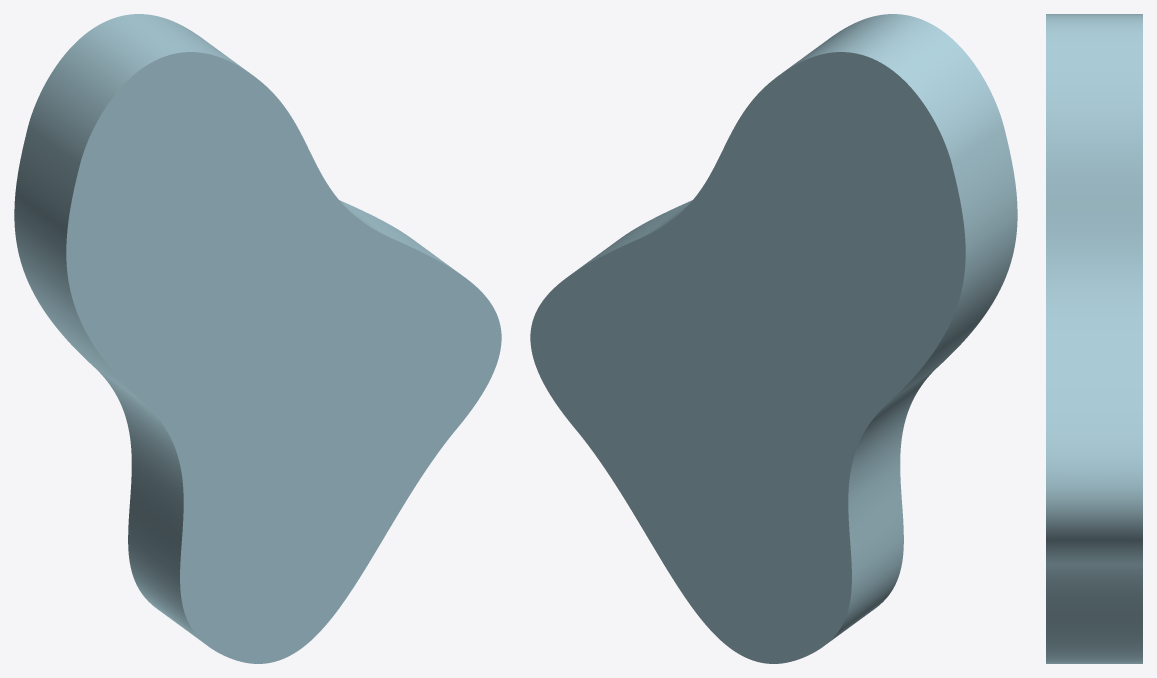
File: lake.gltf
The picture shows the model from 3 angles, left to right: view 1: azimuth 30°, elevation 25°; view 2: azimuth 150°, elevation 25°; view 3: azimuth 270°, elevation 25°; orthographic projection. The views are drawn at different scales.
Size of the model in its own units: 0.1626 by 0.2258 by 0.0336.
